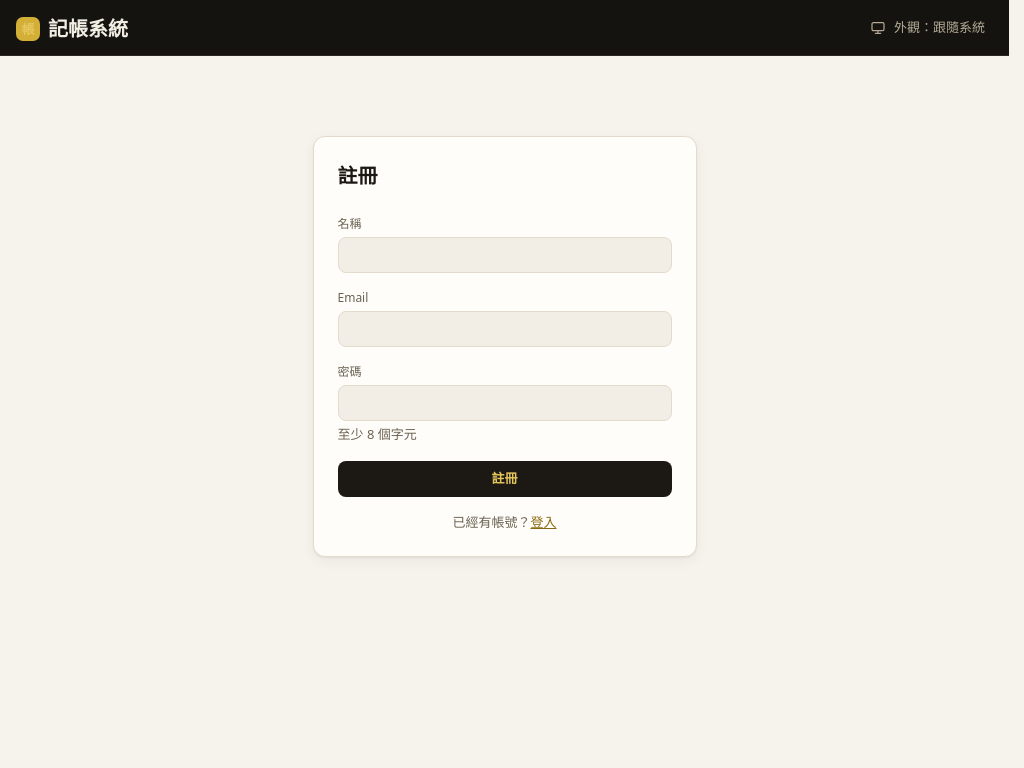
Scenario: RegisterPage › shows the conflict message when the email is taken
Type "Alice" into the field labelled "名稱" at (504, 255), box 338,237 -> 672,273
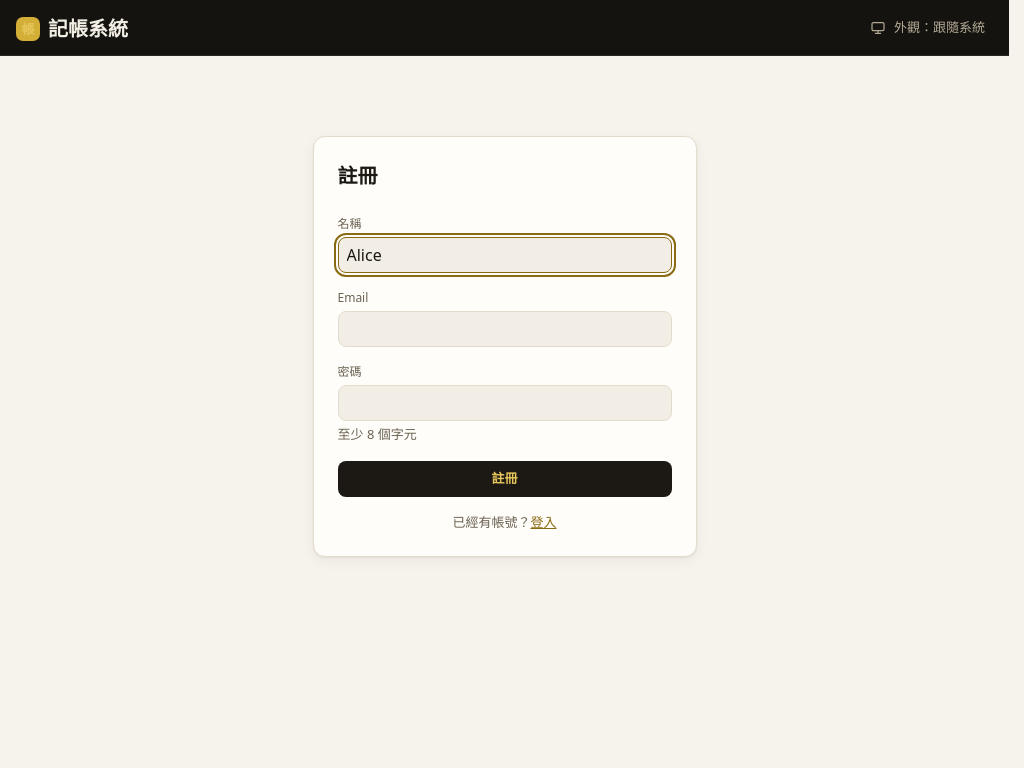
Type "alice@example.com" into the field labelled "Email" at (504, 329), box 338,311 -> 672,347
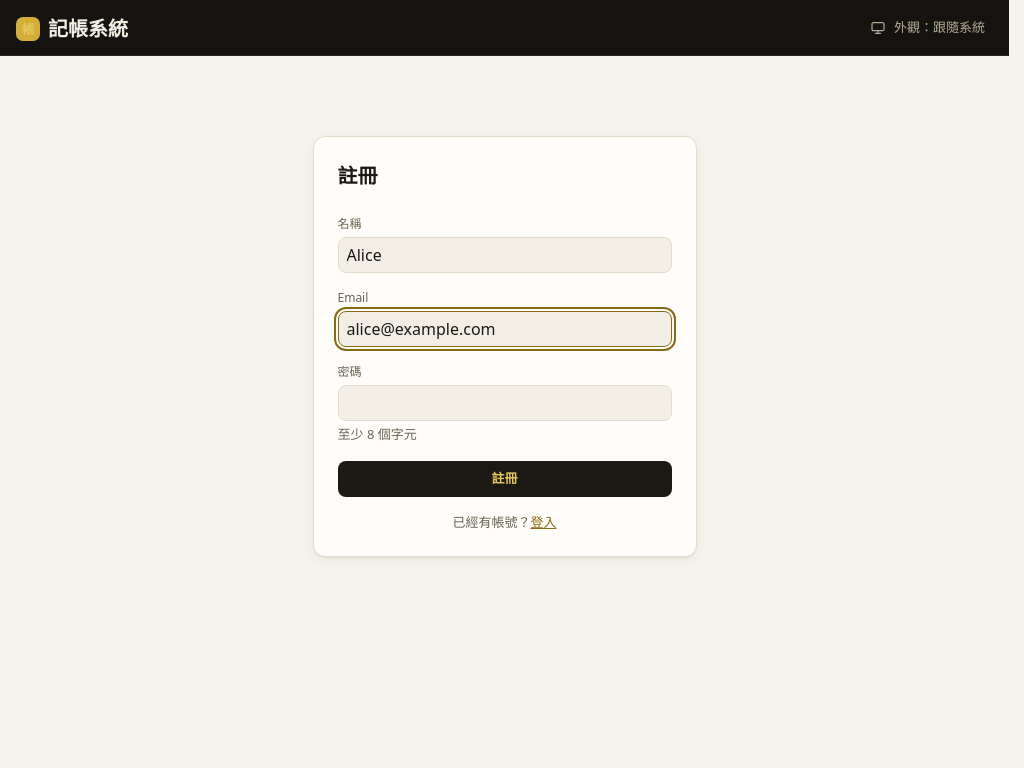
Type "sup3rsecret" into the password field labelled "密碼" at (504, 403), box 338,385 -> 672,421
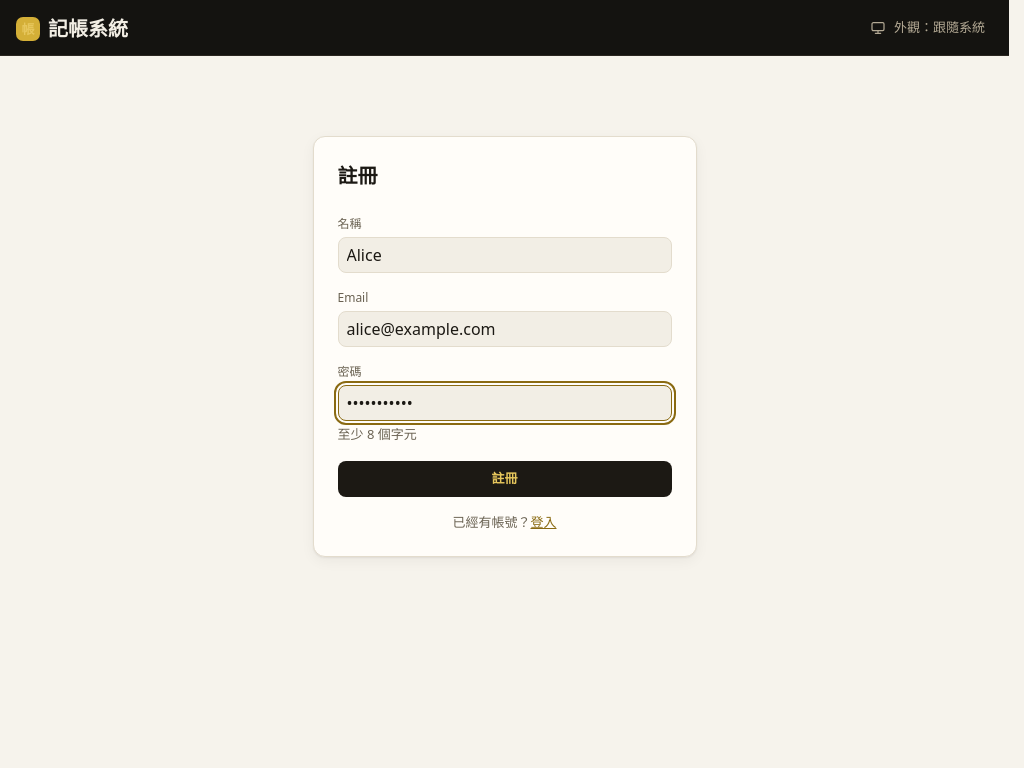
Click the button "註冊" at (504, 478), box 338,460 -> 672,496
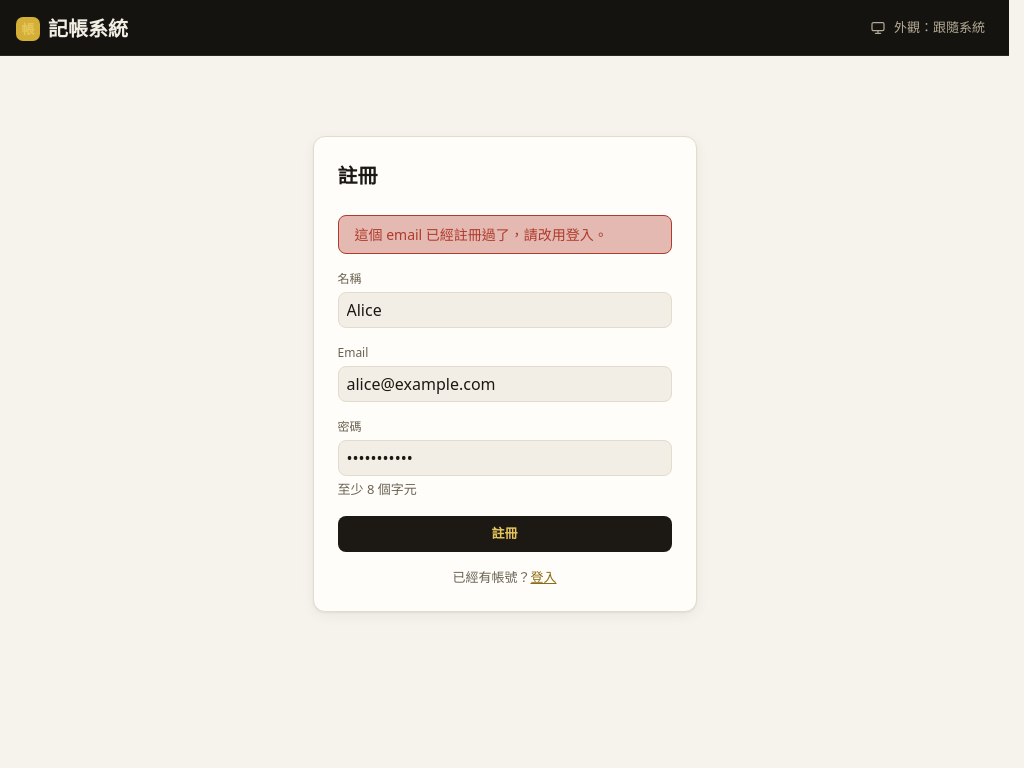
Result: the message shows "已經註冊過了" at 354,225 -> 608,244
